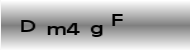4: (65, 22, 80, 35)
D: (20, 20, 36, 33)
F: (111, 13, 124, 27)
g: (89, 23, 103, 37)
m: (46, 25, 66, 36)
